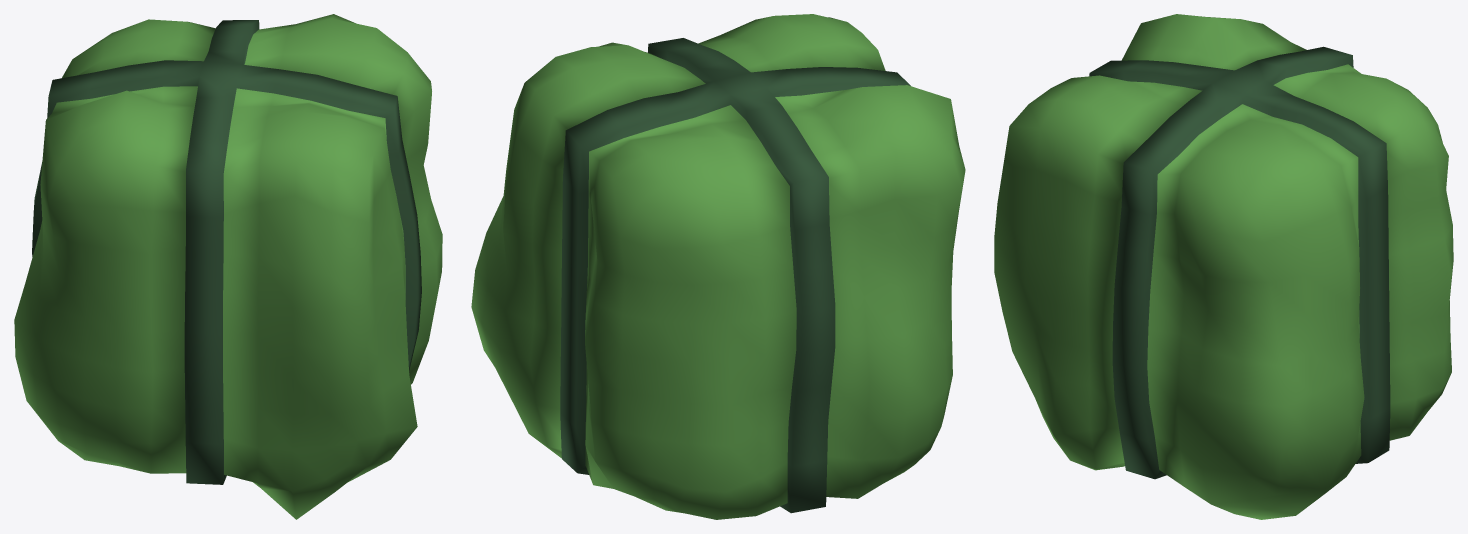
The model's file is kelpcube_animation.fbx.
The picture shows the model from 3 angles, left to right: view 1: azimuth 30°, elevation 25°; view 2: azimuth 150°, elevation 25°; view 3: azimuth 270°, elevation 25°; orthographic projection. The views are drawn at different scales.
Visible parts, largest first — view 1: seaweedcube_animated; view 2: seaweedcube_animated; view 3: seaweedcube_animated.
Part boxes in pixels (left/top/right/bottom): seaweedcube_animated: left=14, top=14, right=442, bottom=519; seaweedcube_animated: left=471, top=14, right=965, bottom=519; seaweedcube_animated: left=994, top=14, right=1453, bottom=519.
Size of the model in its own units: 301 by 273 by 285.
